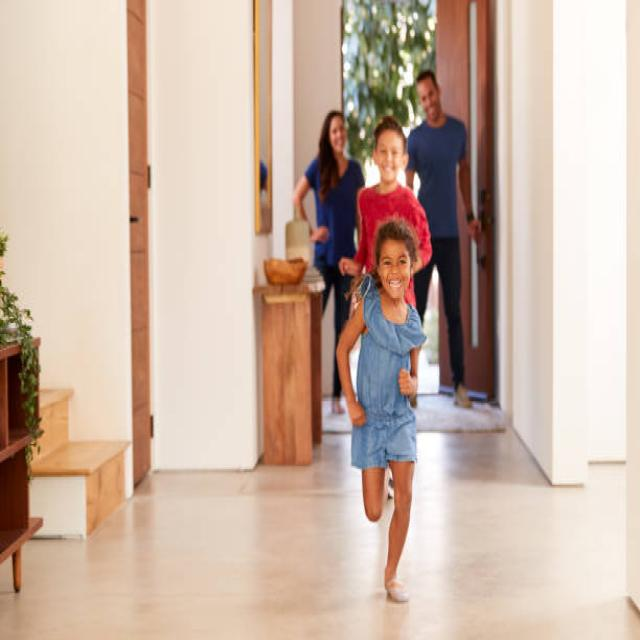Person: (336, 222, 426, 601), (408, 71, 483, 409), (297, 114, 363, 413), (340, 114, 432, 279)
